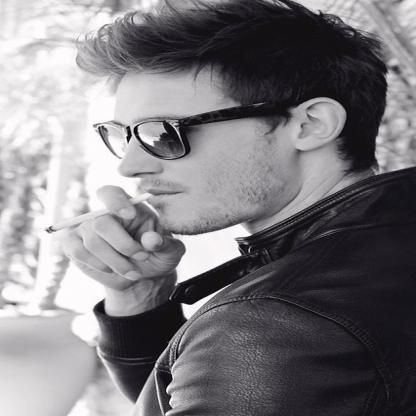smoking: (44, 193, 153, 234)
